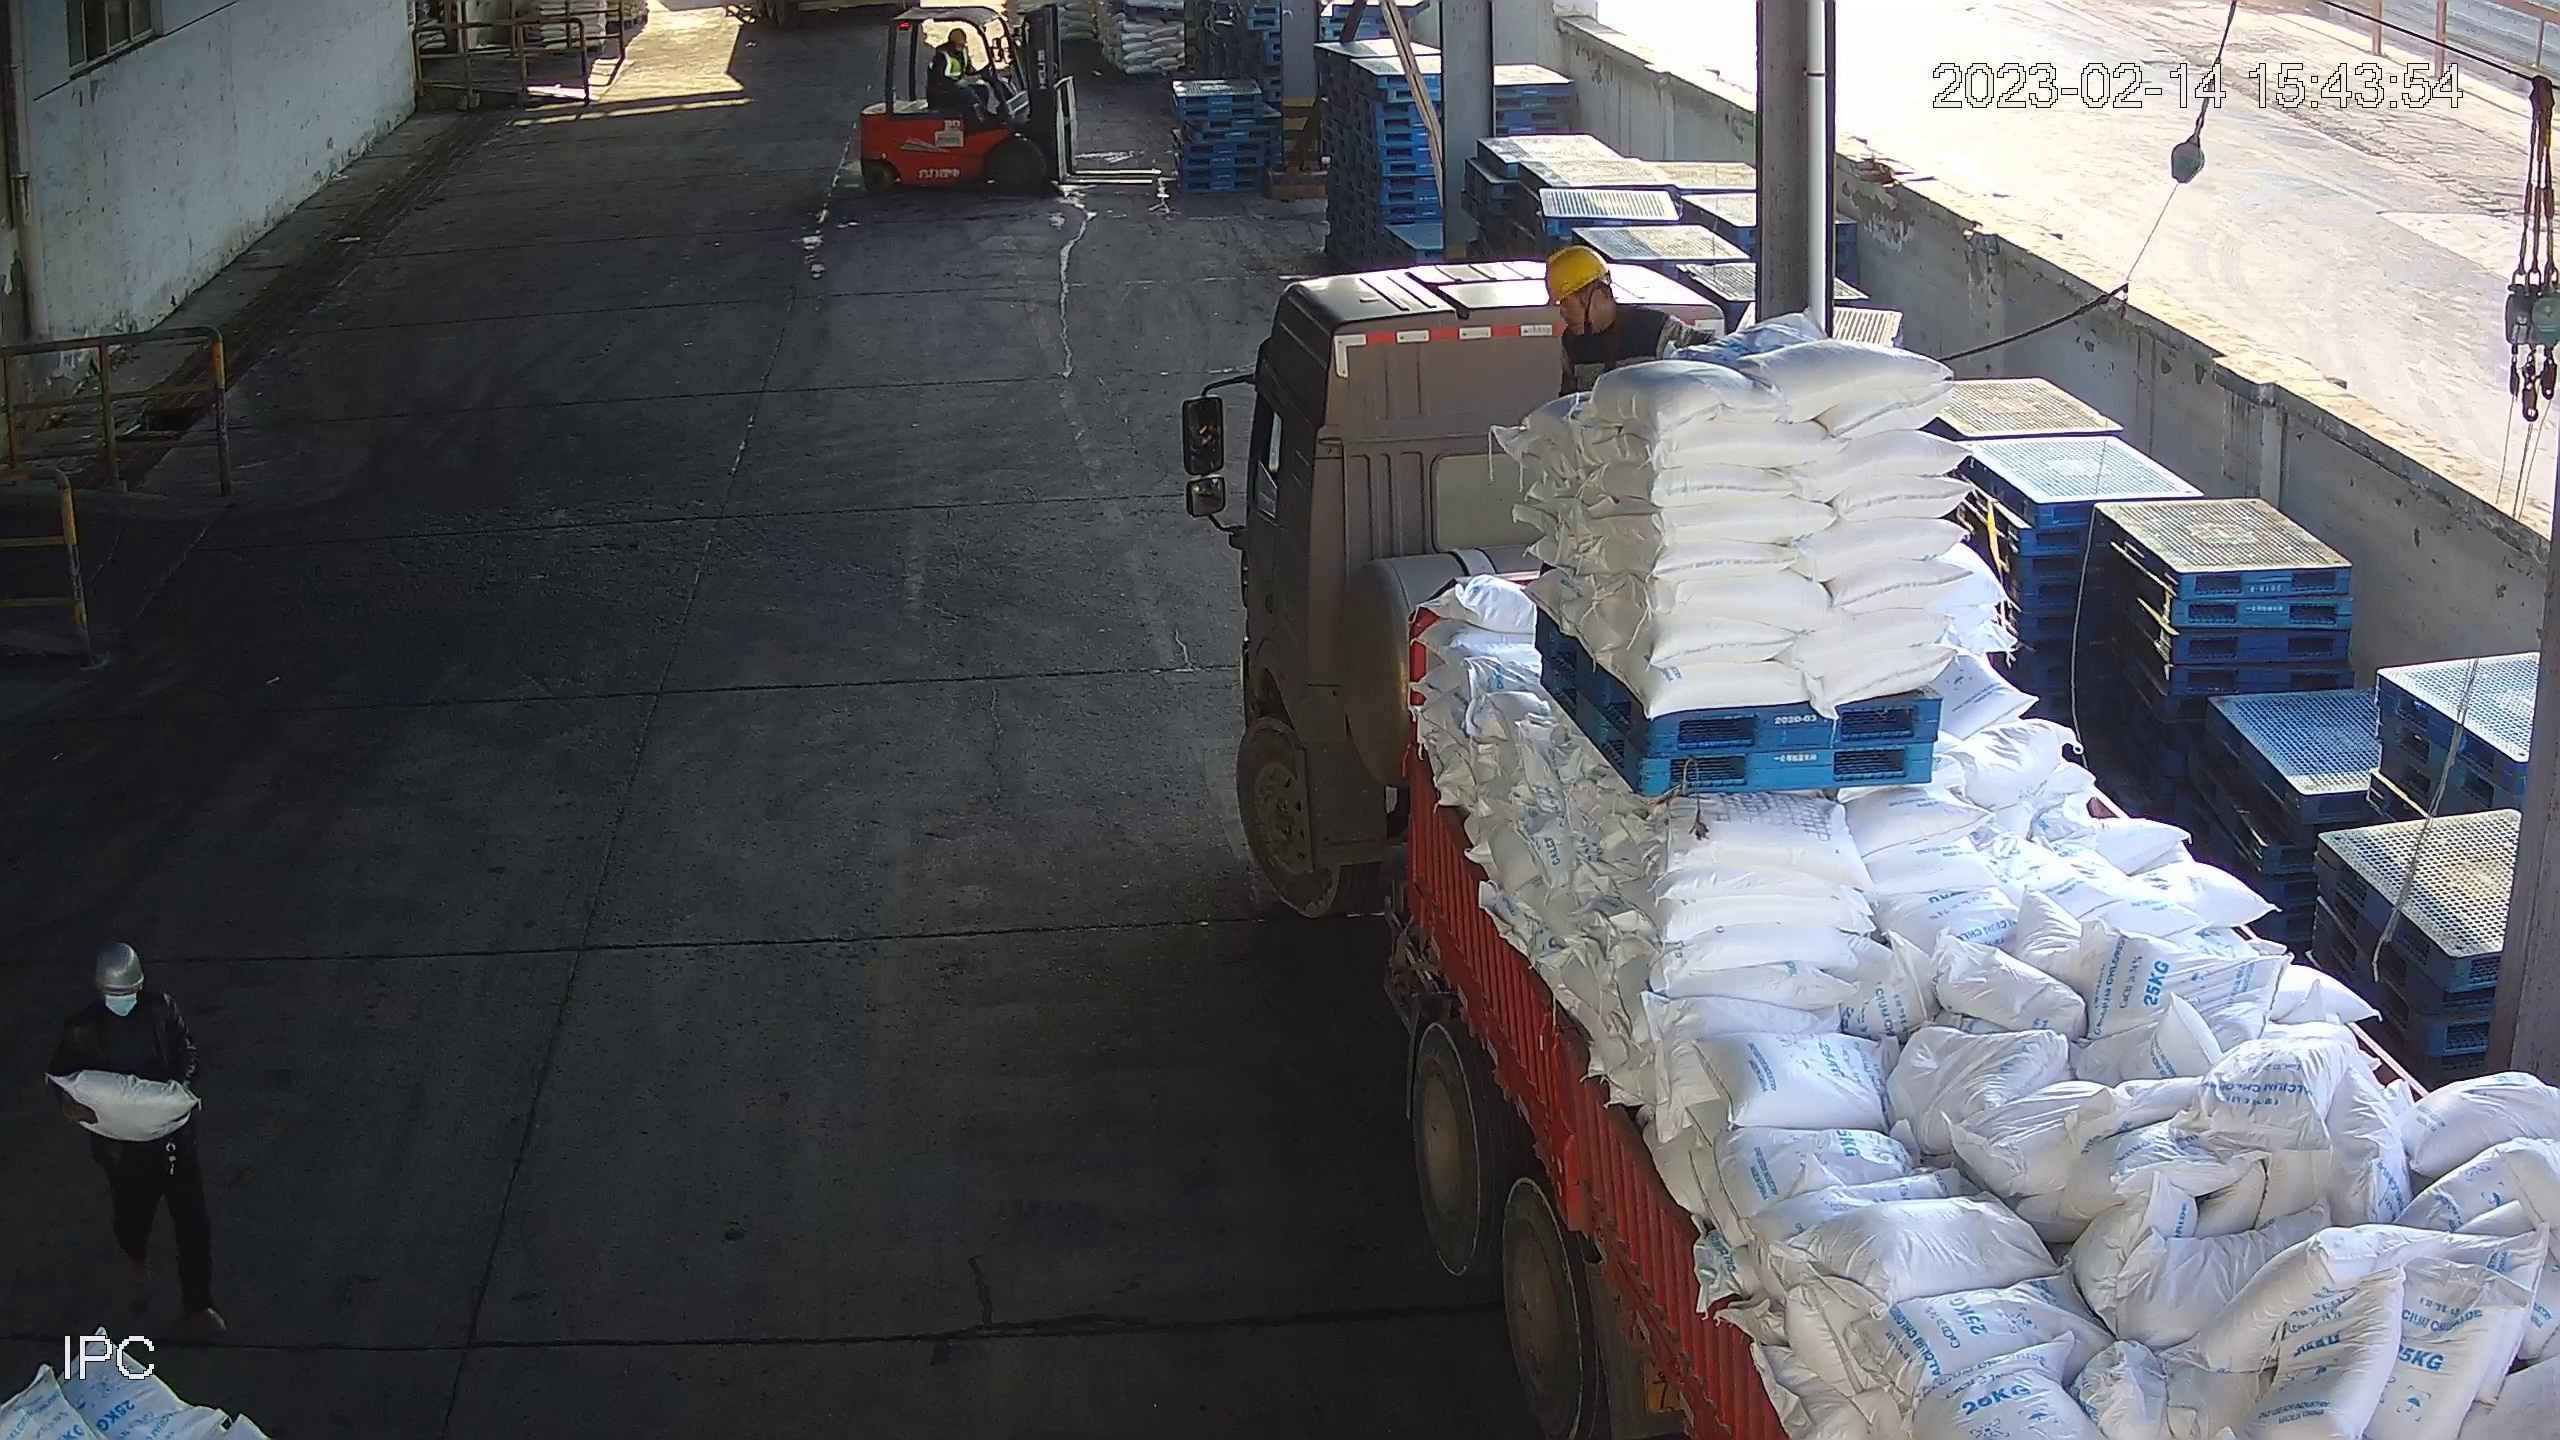belt: (1568, 337, 1625, 390)
head: (1539, 250, 1670, 365), (932, 32, 979, 71)
helmet: (1539, 239, 1611, 292), (942, 25, 965, 46)
people: (920, 22, 1009, 125)
truck: (1183, 251, 2560, 1440)
